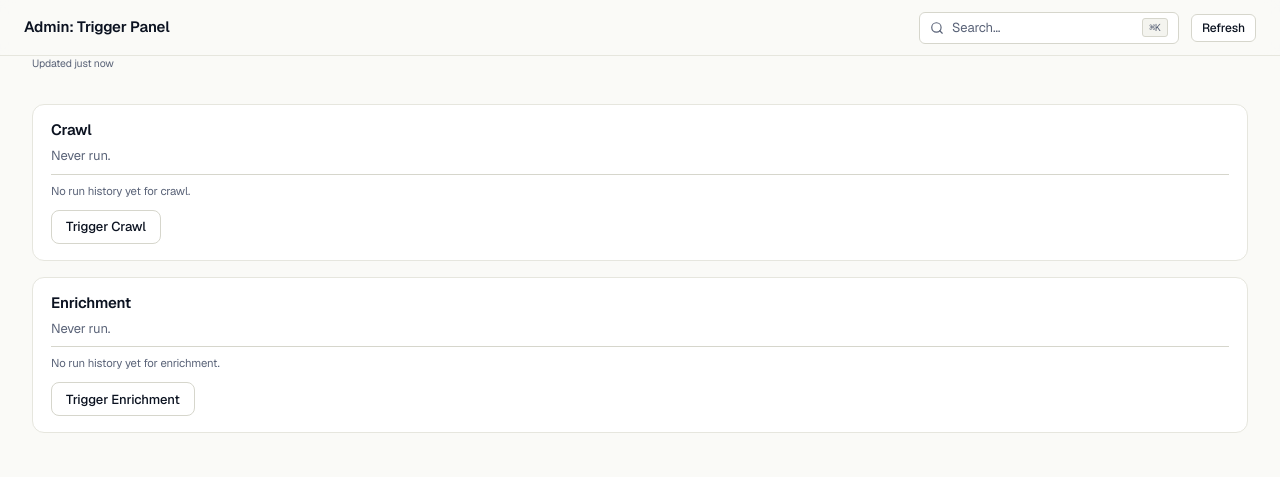
it: FE-TST-03: error toast appears when trigger fails with 409 › shows an error toast with the conflict message
This screenshot has width=1280, height=477.
Click the button with test id "trigger-btn-crawl".
click(106, 227)  # box [51,210,161,244]
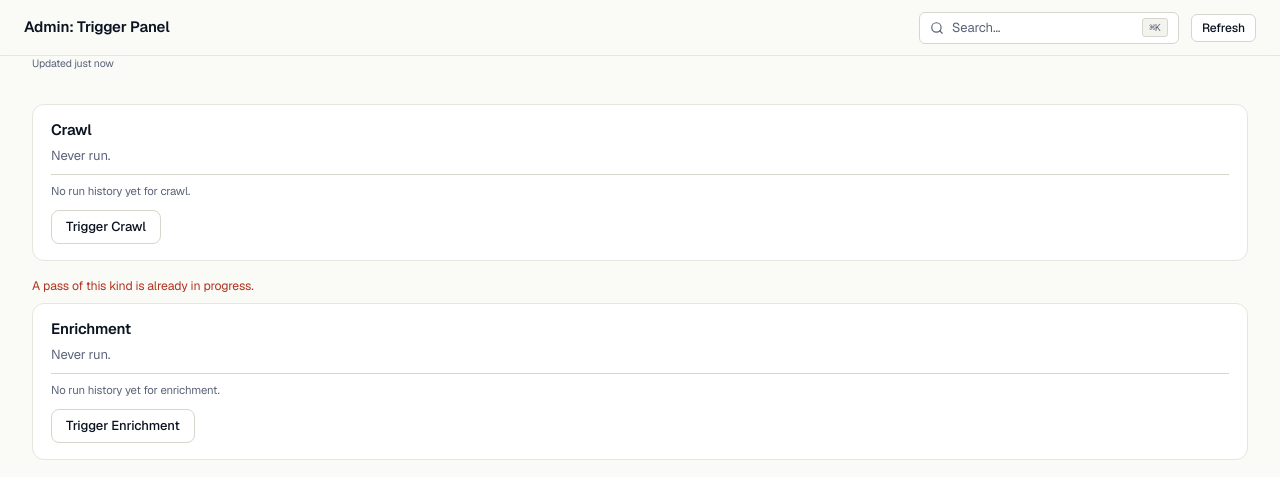
Check: the message with test id "trigger-error-crawl" shows "already in progress", box [32,278,254,294]
